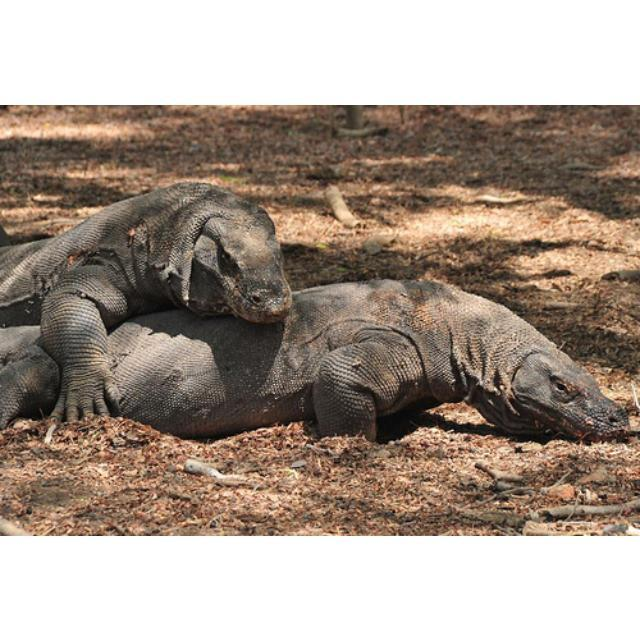KomodoDragon: (1, 280, 626, 442)
